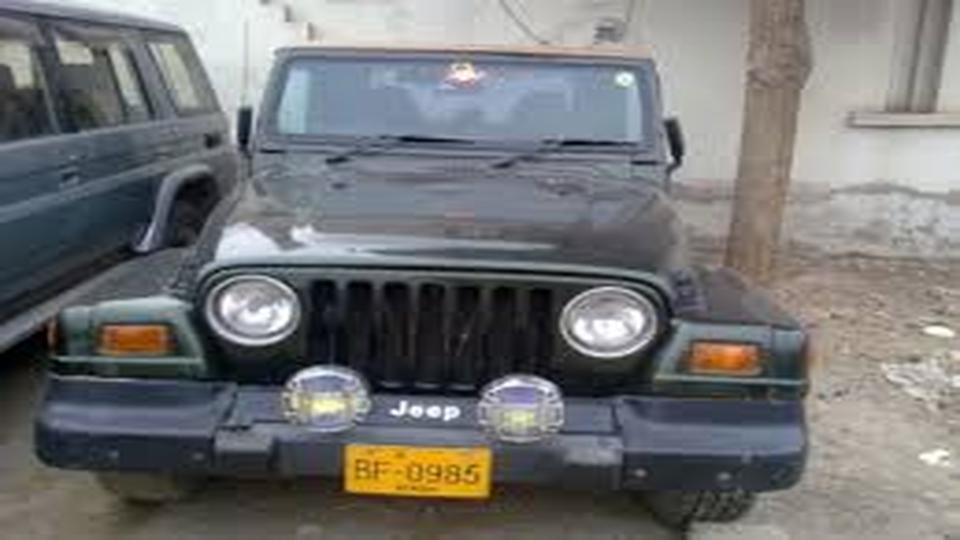NumberPlate: (327, 436, 504, 510)
